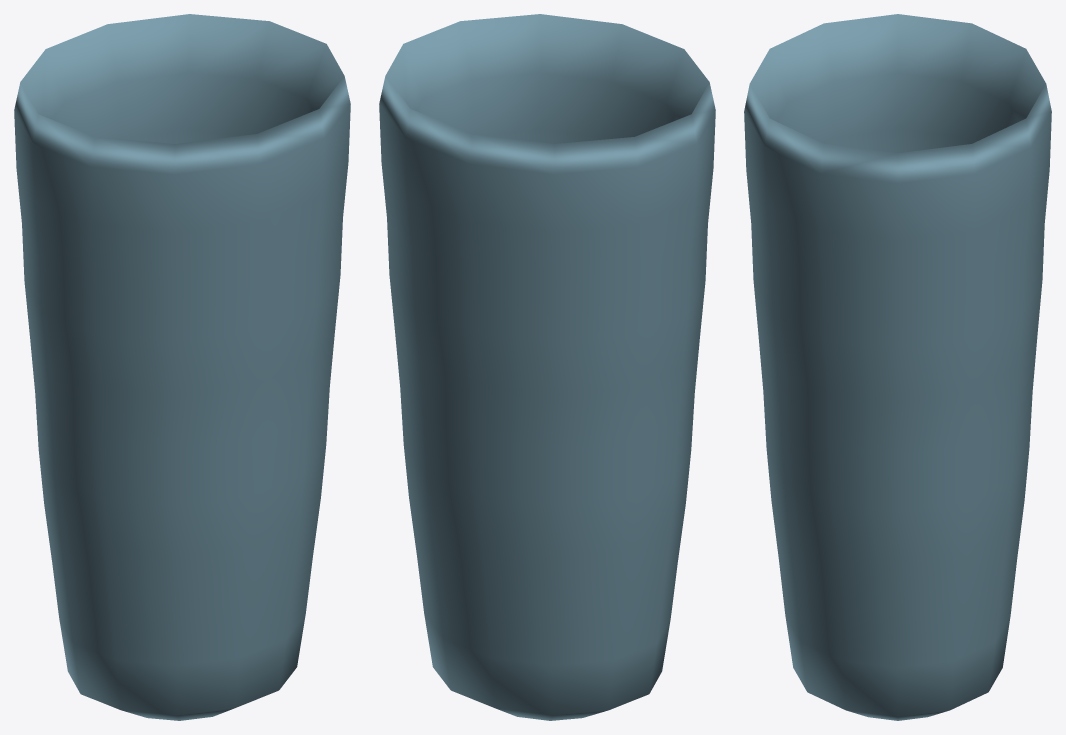
Rendered from vaso.fbx.
The picture shows the model from 3 angles, left to right: view 1: azimuth 30°, elevation 25°; view 2: azimuth 150°, elevation 25°; view 3: azimuth 270°, elevation 25°; orthographic projection.
Parts seen in each view (by area): view 1: nurbsToPoly2; view 2: nurbsToPoly2; view 3: nurbsToPoly2.
Boxes of the visible parts, x1,y1,x2,y2 form: nurbsToPoly2: [14, 14, 350, 720]; nurbsToPoly2: [379, 14, 715, 720]; nurbsToPoly2: [744, 14, 1051, 720].
Bounding box in the file's own units: 7.45 × 14.66 × 6.7.
